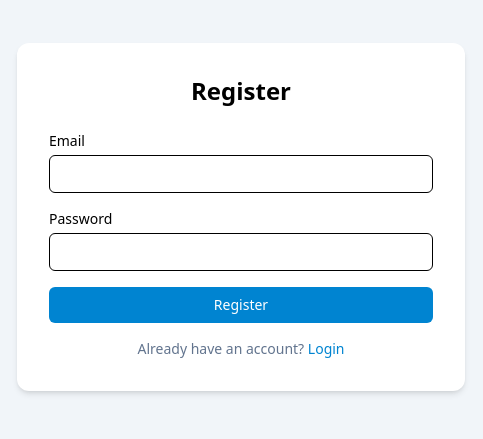
RegisterPage (MSW) › shows error when email already exists
Note: Default MSW dataset contains test@example.com already
In the field labelled "Email": (241, 174) left=49, top=155, right=433, bottom=193, type "test@example.com"
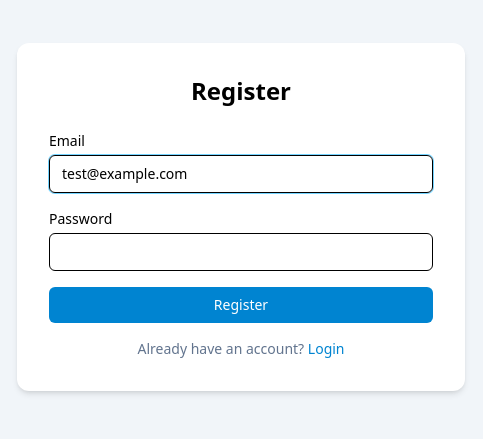
In the password field labelled "Password": (241, 252) left=49, top=233, right=433, bottom=271, type "password123"
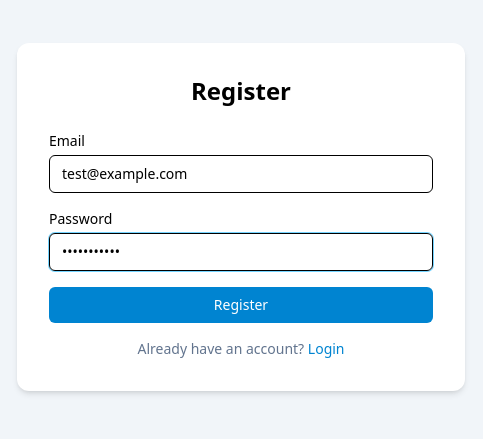
Click the button "Register": (241, 305) left=49, top=287, right=433, bottom=323
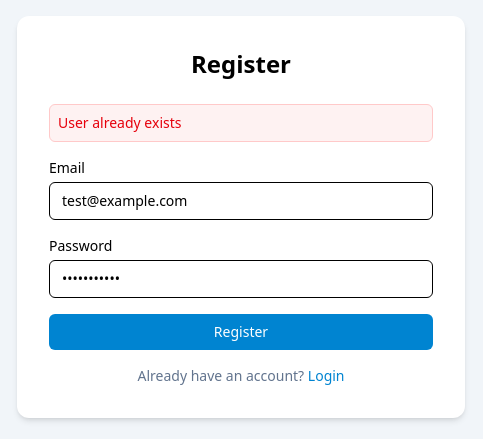
Result: the text "User already exists" is shown at left=49, top=104, right=433, bottom=142
